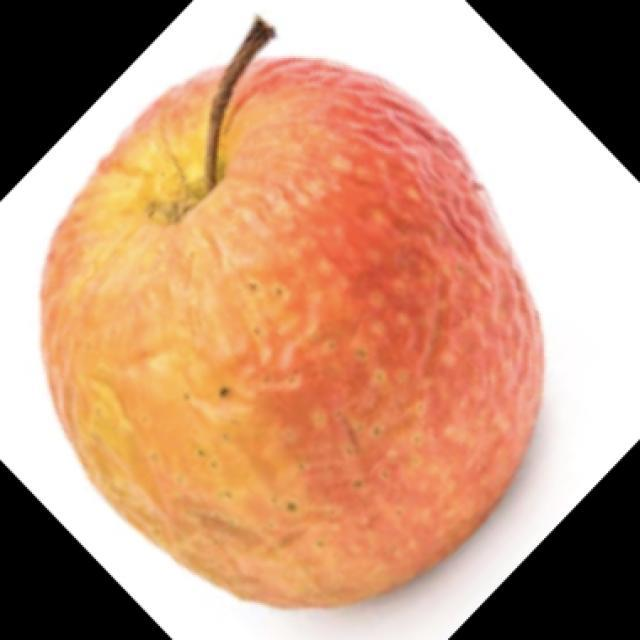Rotten: (82, 68, 570, 587)
